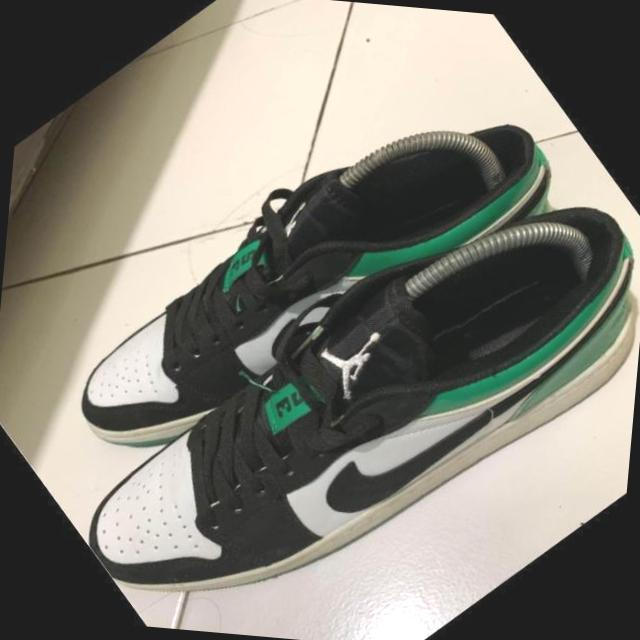nike_fake_jordan: (45, 94, 640, 640), (33, 21, 588, 543)
